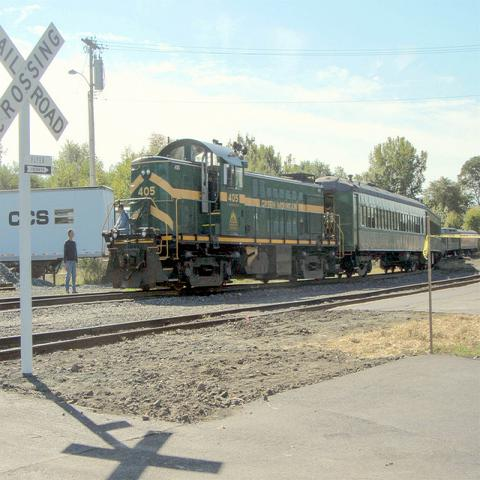truck: (0, 186, 115, 283)
